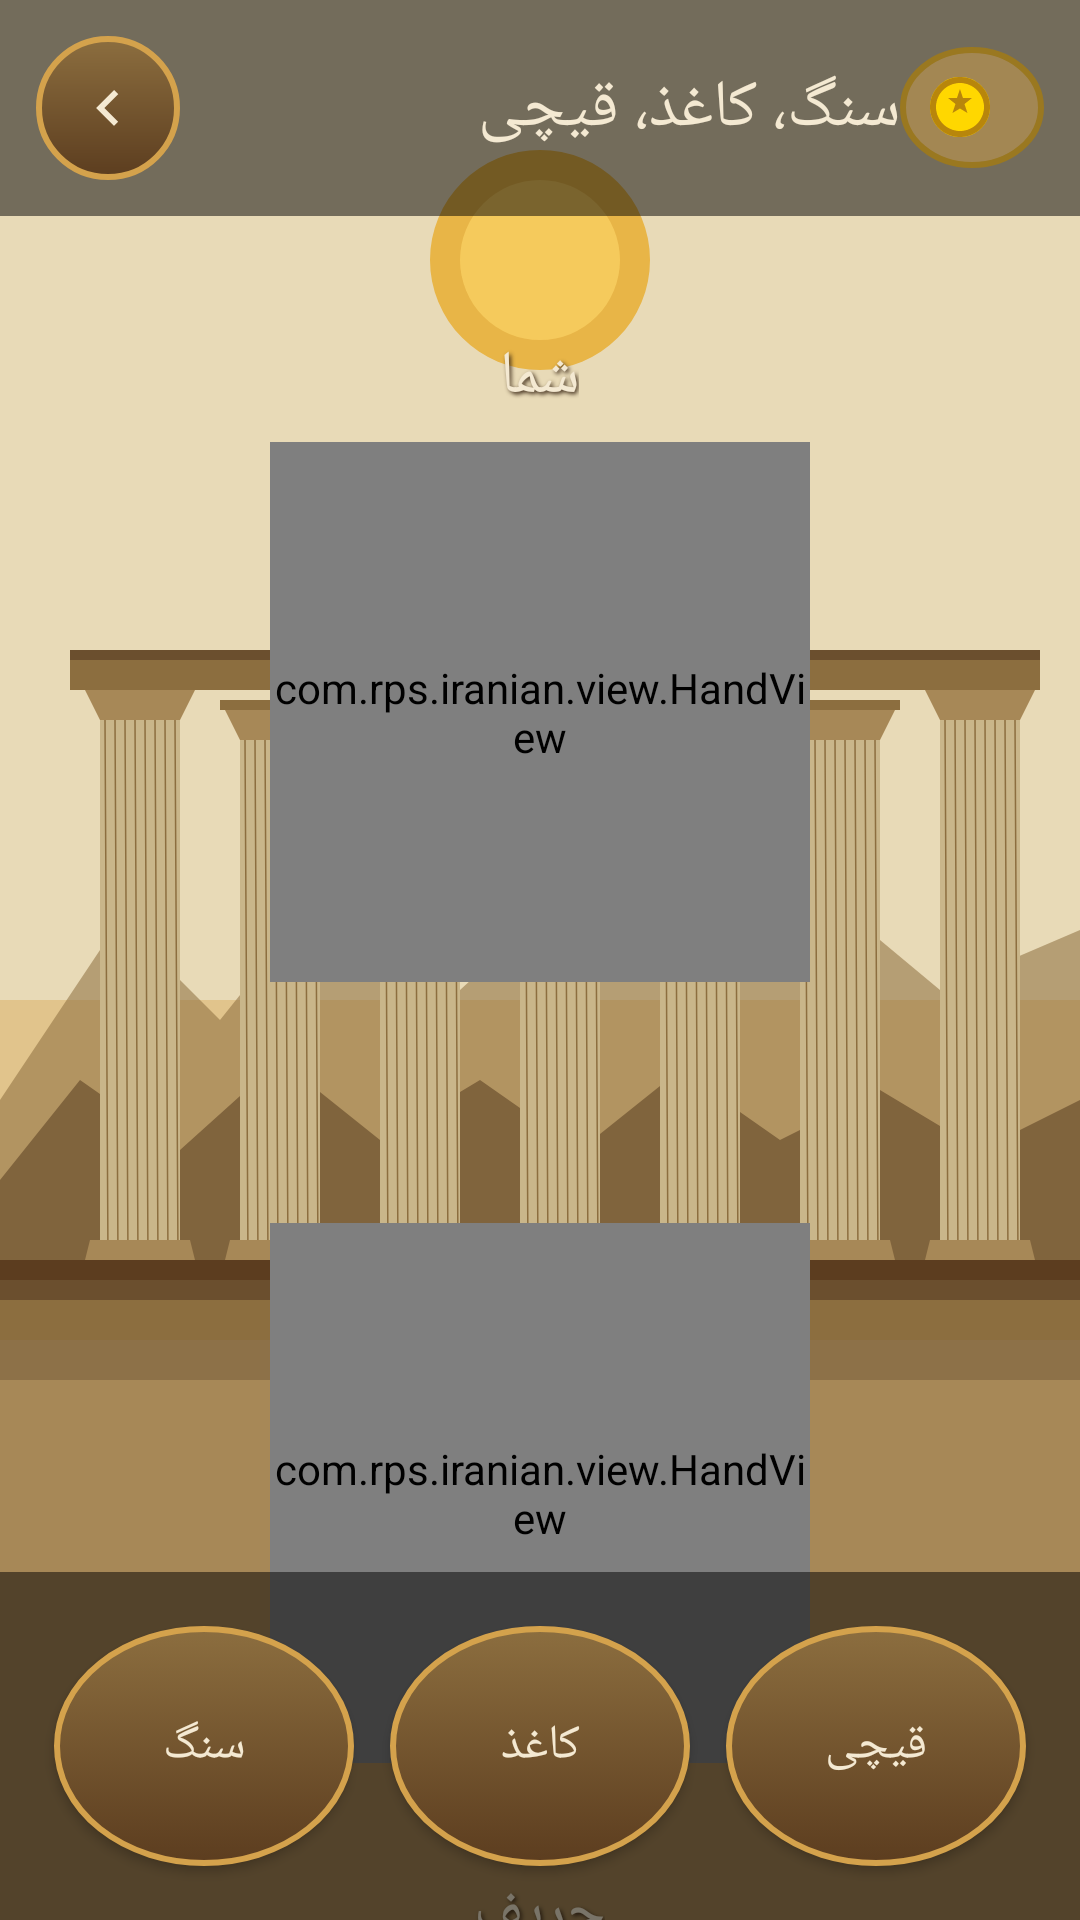

Icon click points for this 1080*1920 phone screenshot, format point (x, y):
coin: point (960, 107)
بازگشت: point (108, 108)
